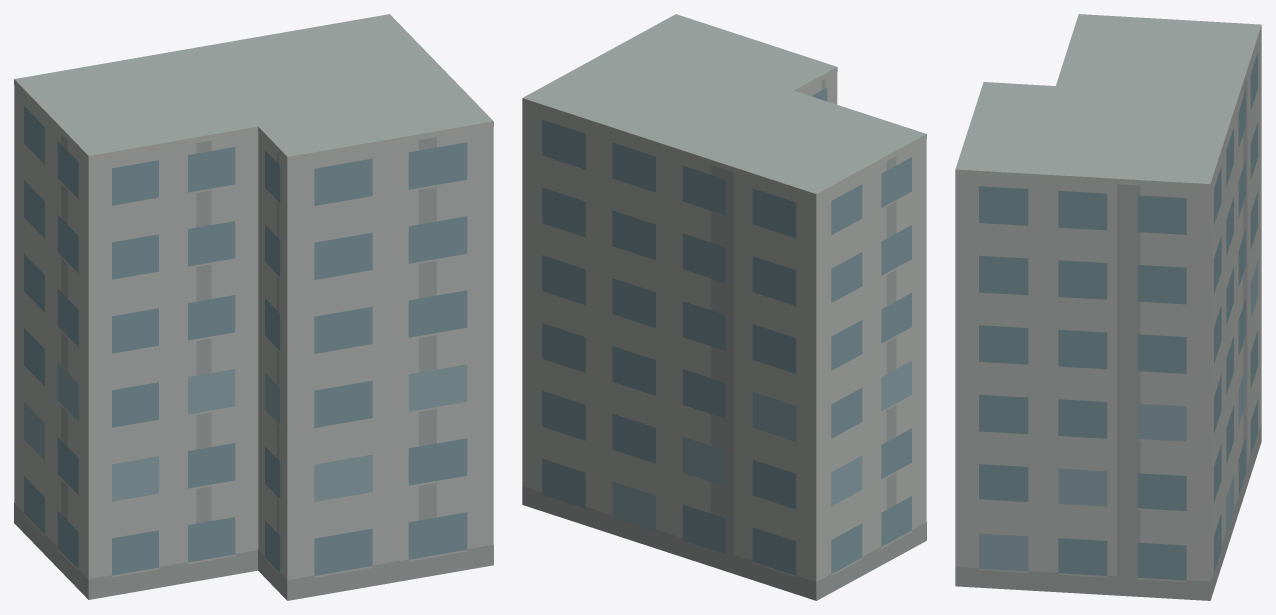
The model's file is residential-8b1baa47-be63-46c1-a001-62c91c6269f8.glb.
The picture shows the model from 3 angles, left to right: view 1: azimuth 30°, elevation 25°; view 2: azimuth 150°, elevation 25°; view 3: azimuth 270°, elevation 25°; orthographic projection. The views are drawn at different scales.
Visible parts, largest first — view 1: residential-8b1baa47-be63-46c1-a001-62c91c6269f8.tmp; view 2: residential-8b1baa47-be63-46c1-a001-62c91c6269f8.tmp; view 3: residential-8b1baa47-be63-46c1-a001-62c91c6269f8.tmp.
Boxes of the visible parts, x1,y1,x2,y2 form: residential-8b1baa47-be63-46c1-a001-62c91c6269f8.tmp: [14, 14, 493, 600]; residential-8b1baa47-be63-46c1-a001-62c91c6269f8.tmp: [522, 14, 926, 600]; residential-8b1baa47-be63-46c1-a001-62c91c6269f8.tmp: [955, 14, 1261, 600].
Bounding box in the file's own units: 16.03 × 18.3 × 12.2.
